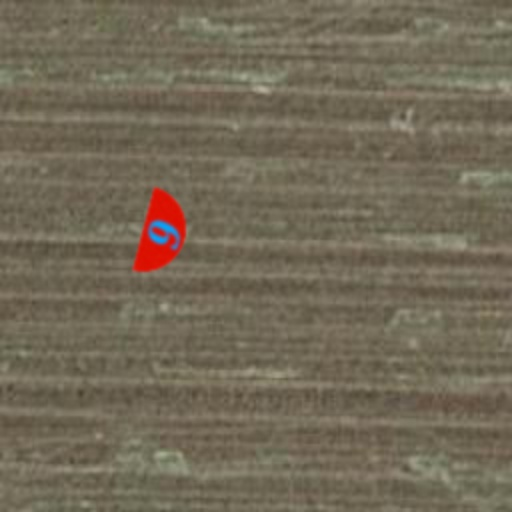semicircle: (110, 180, 218, 288)
